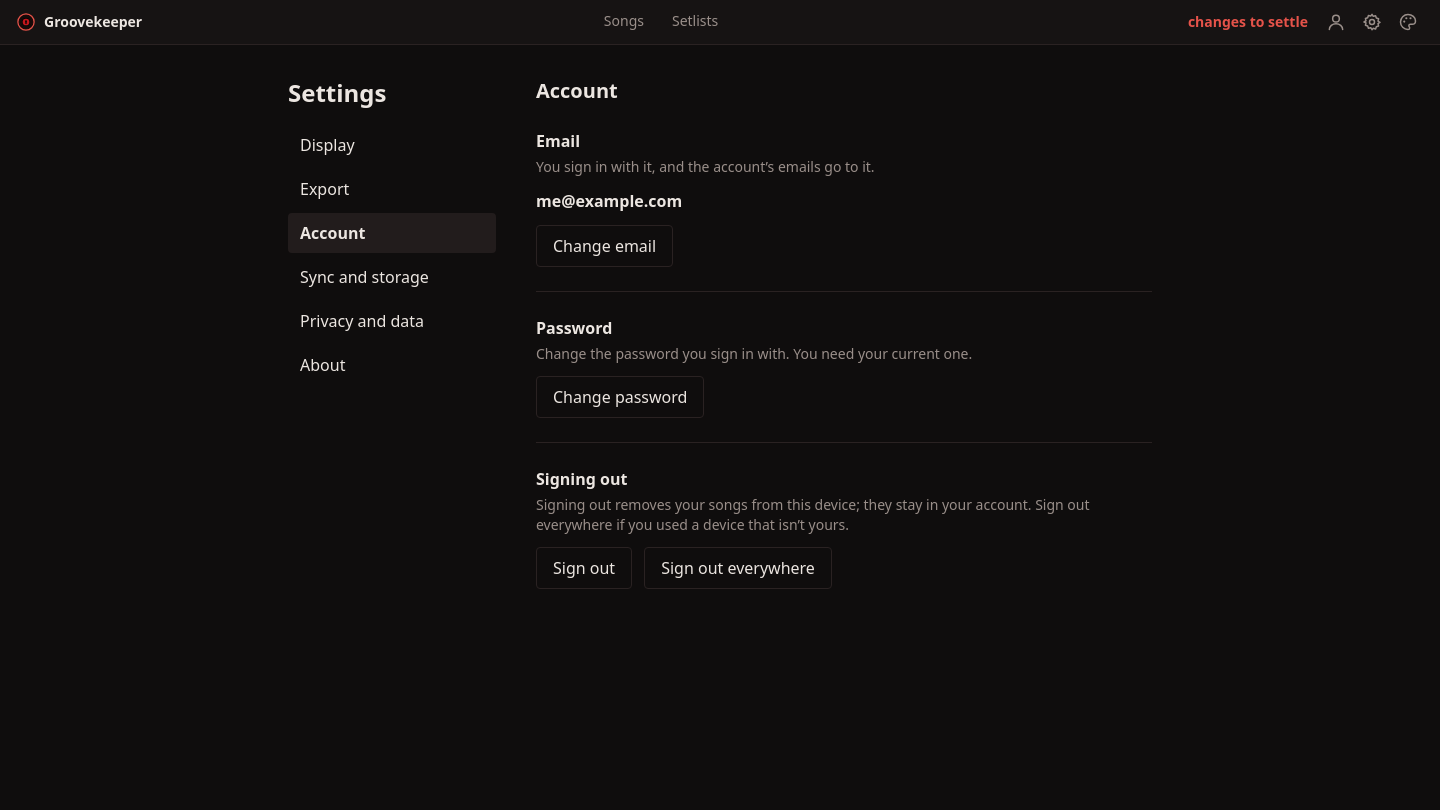
Test: Settings › changes the password with the current one, saying when it isn't right
Click the link "Change password" at [620, 397], box left=536, top=376, right=704, bottom=418
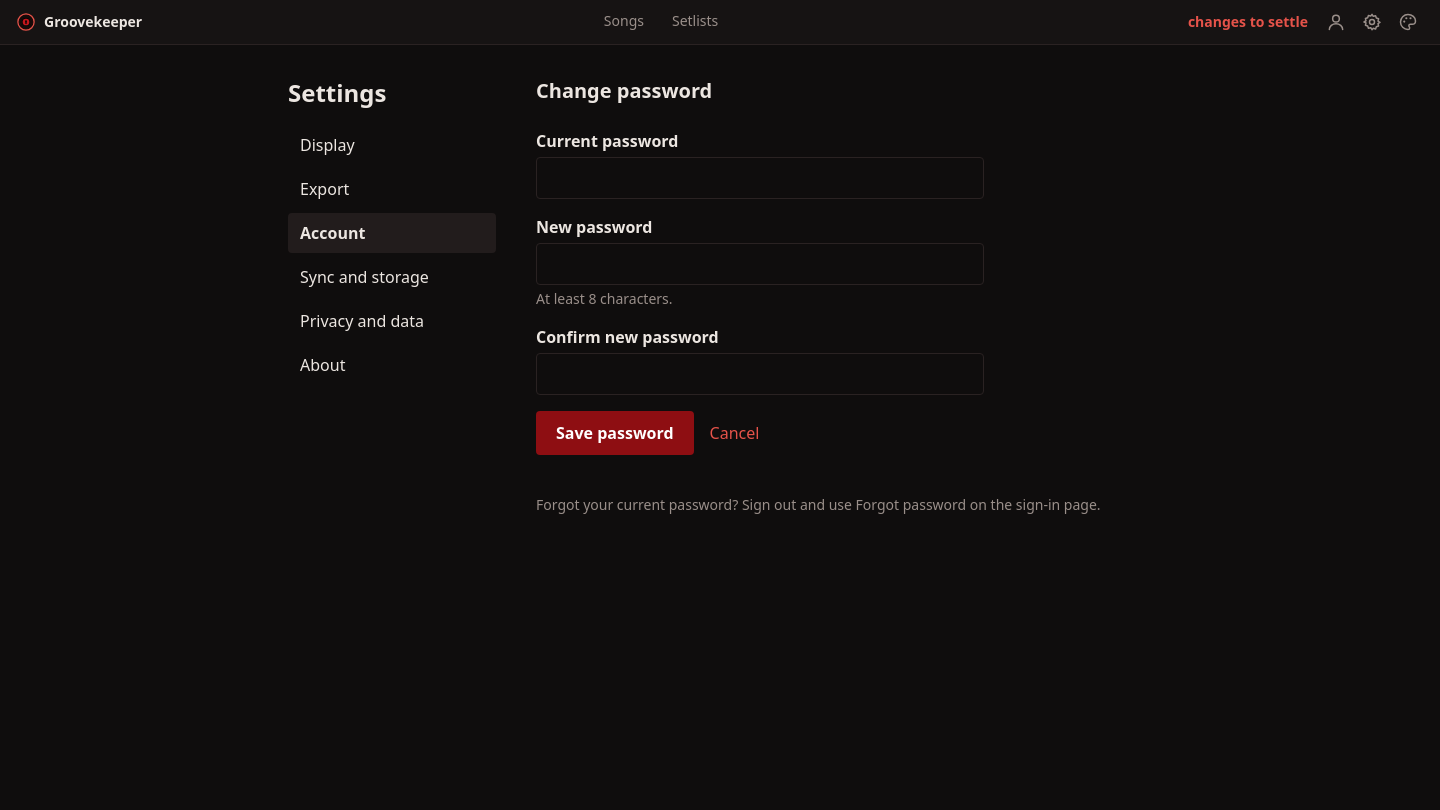
Type "old one" into the password field labelled "Current password" at [760, 178], box left=536, top=157, right=984, bottom=199
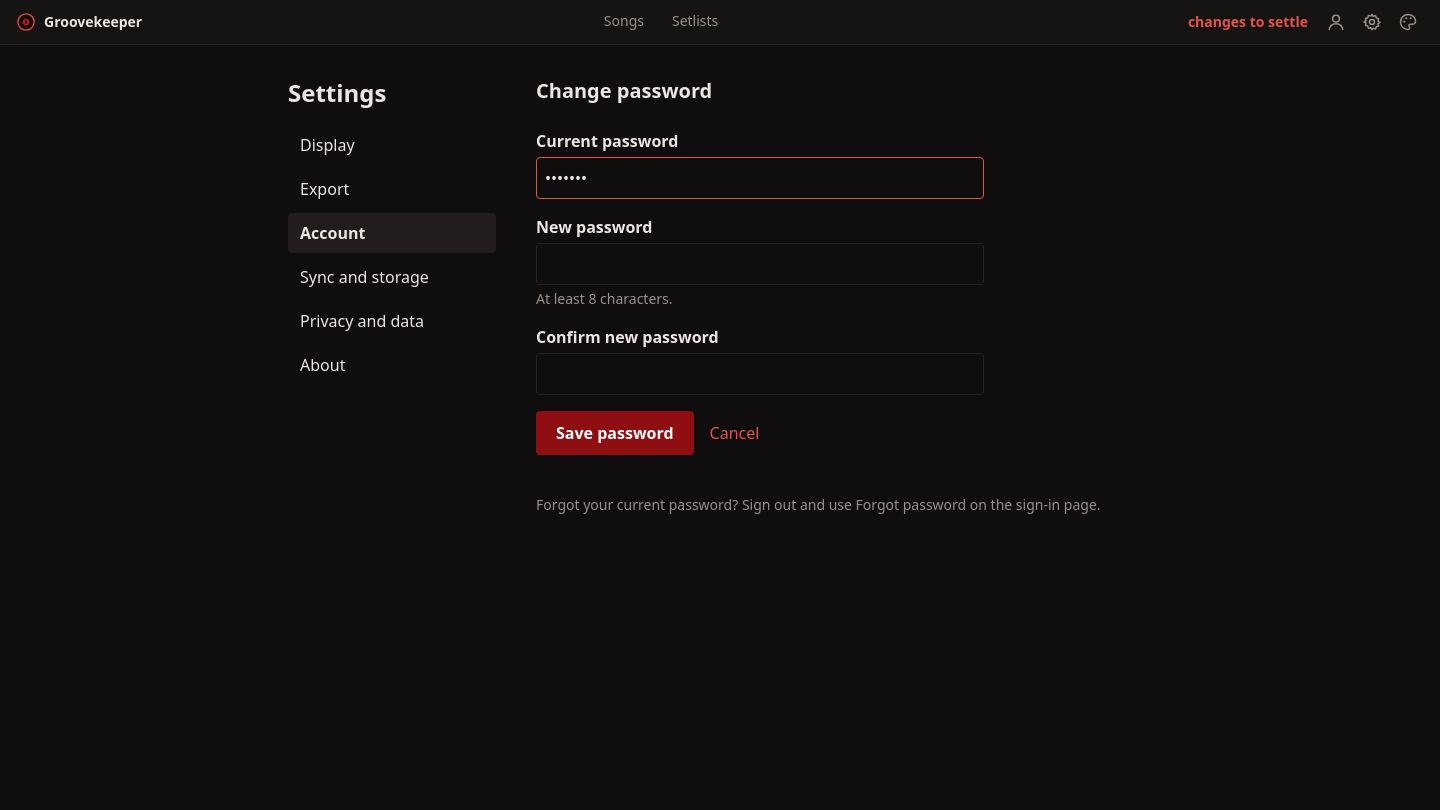
Type "new one!!" into the password field labelled "New password" at [760, 264], box left=536, top=243, right=984, bottom=285
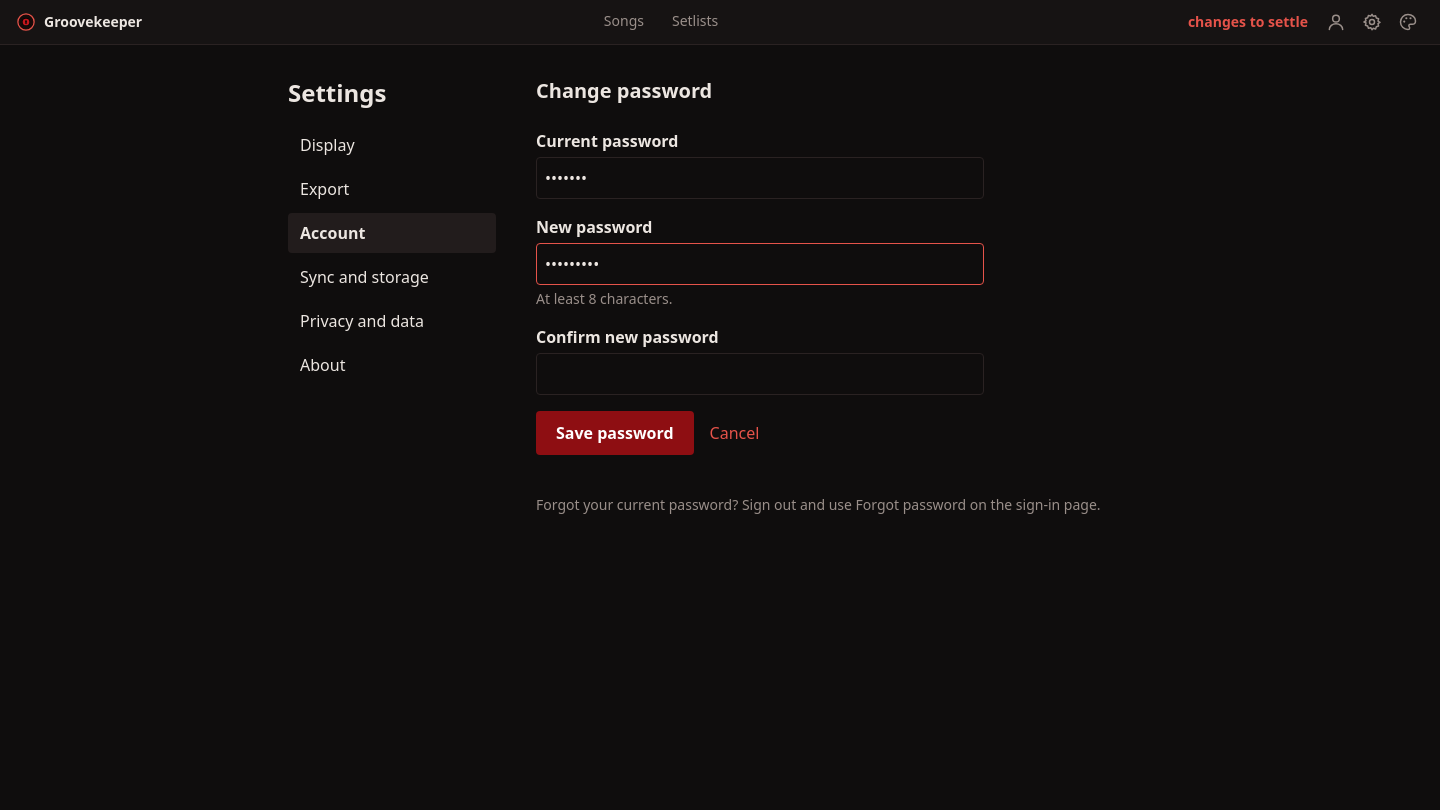
Type "new one!!" into the password field labelled "Confirm new password" at [760, 374], box left=536, top=353, right=984, bottom=395
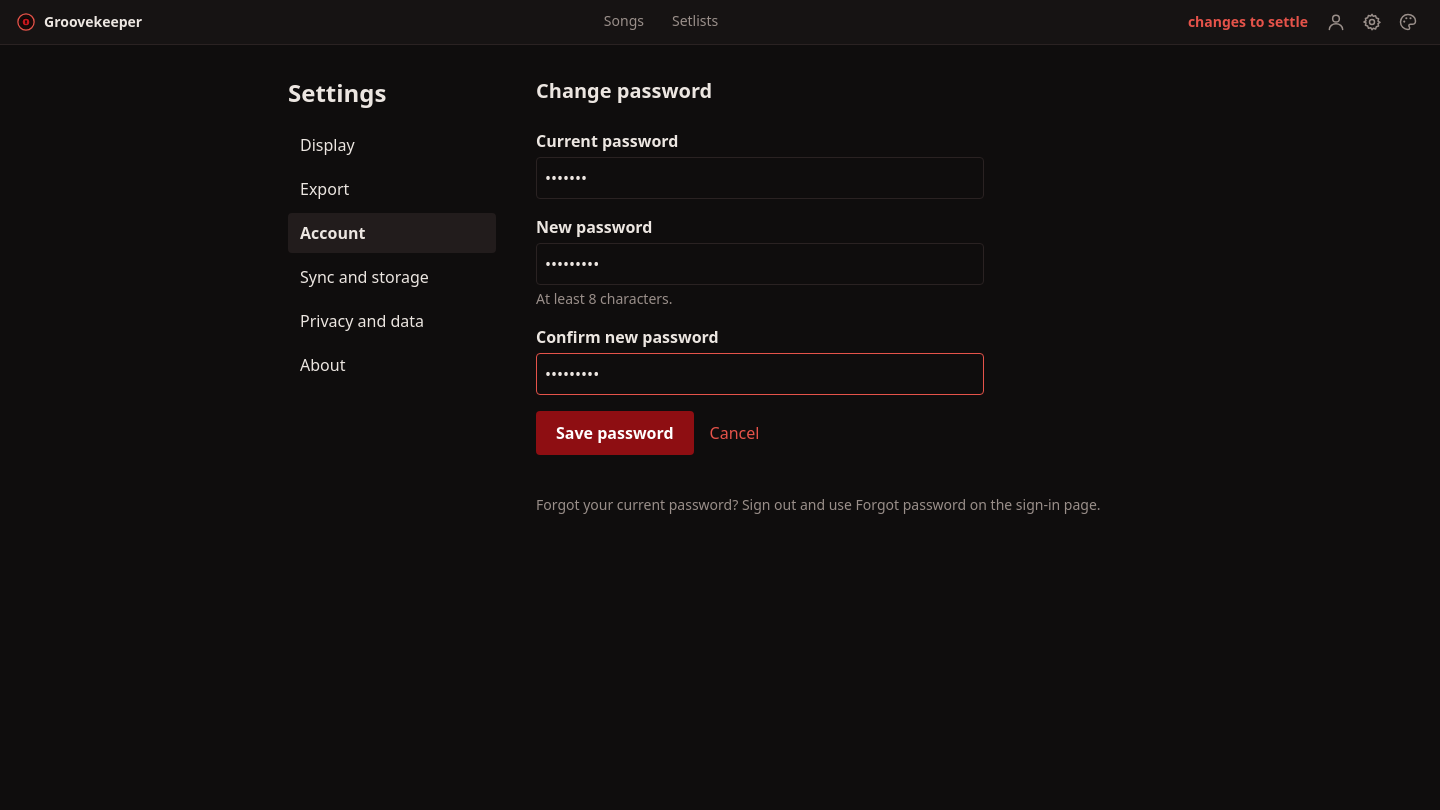
Result: the button "Save password" is enabled
Click the button "Save password" at [615, 433], box left=536, top=411, right=694, bottom=455
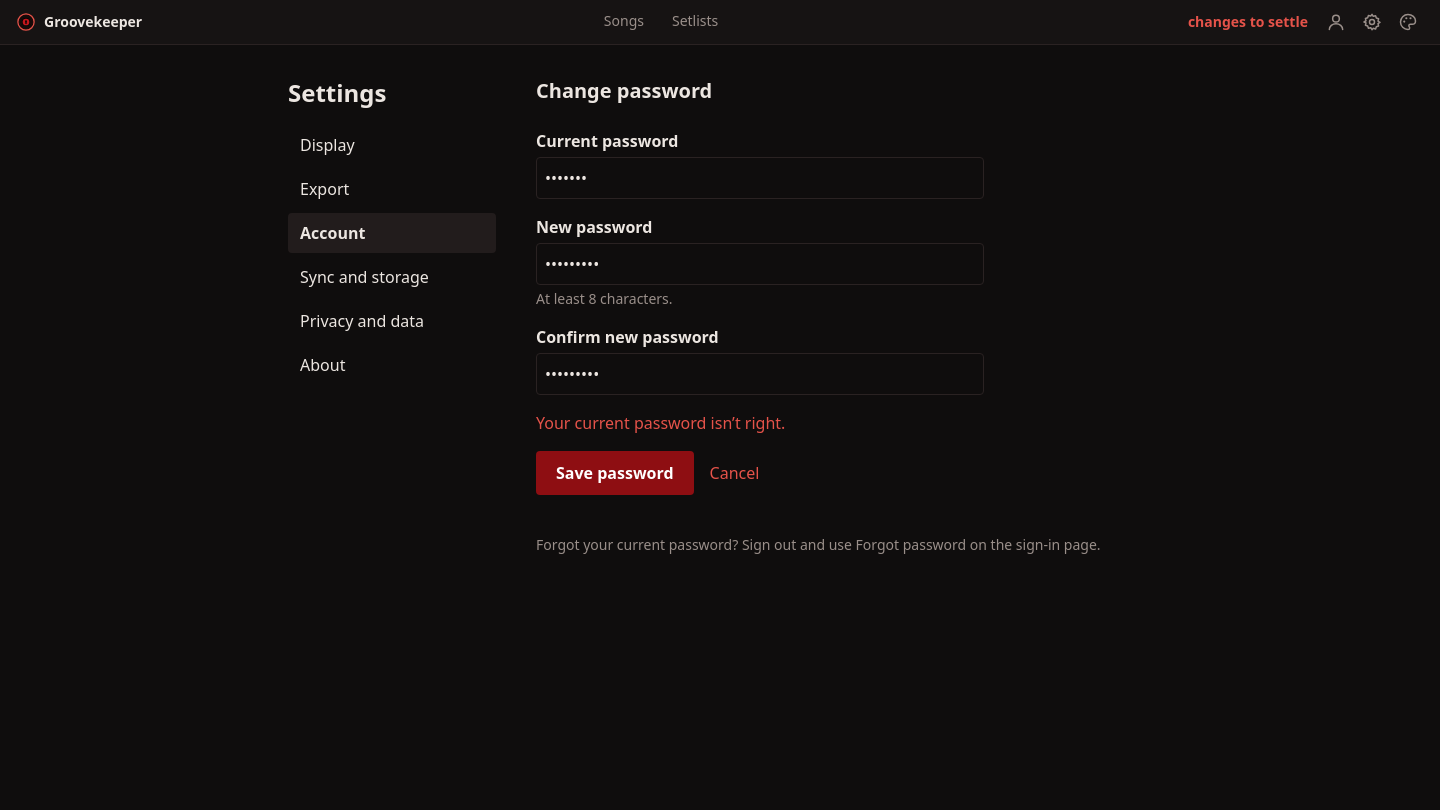
Result: the button "Save password" is enabled
Result: the message reads "Your current password isn’t right." at left=536, top=412, right=785, bottom=434
Click the button "Save password" at [615, 473], box left=536, top=451, right=694, bottom=495
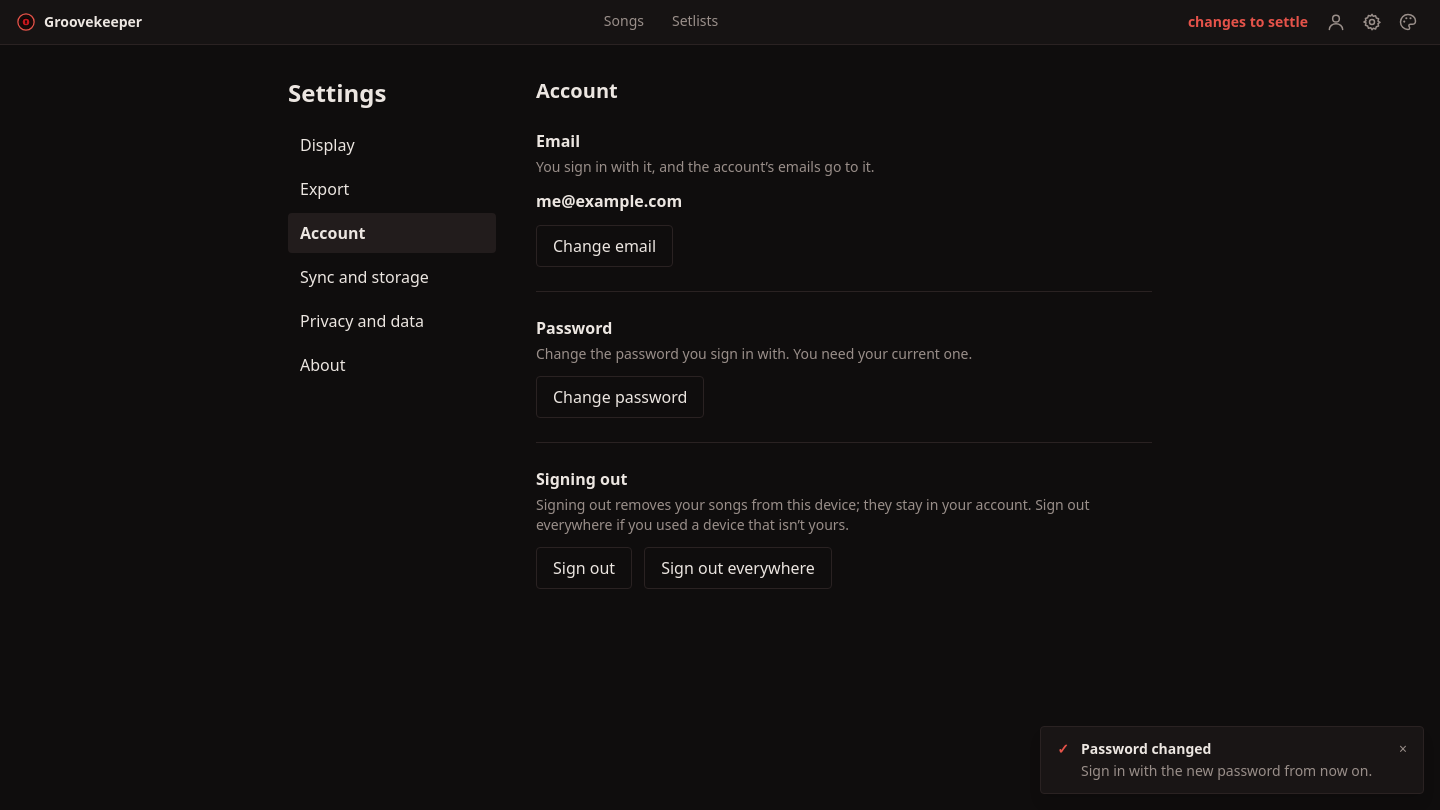
Result: the text "Password changed" is shown at left=1081, top=739, right=1211, bottom=758
Result: the heading "Account" is shown at left=536, top=77, right=618, bottom=104
